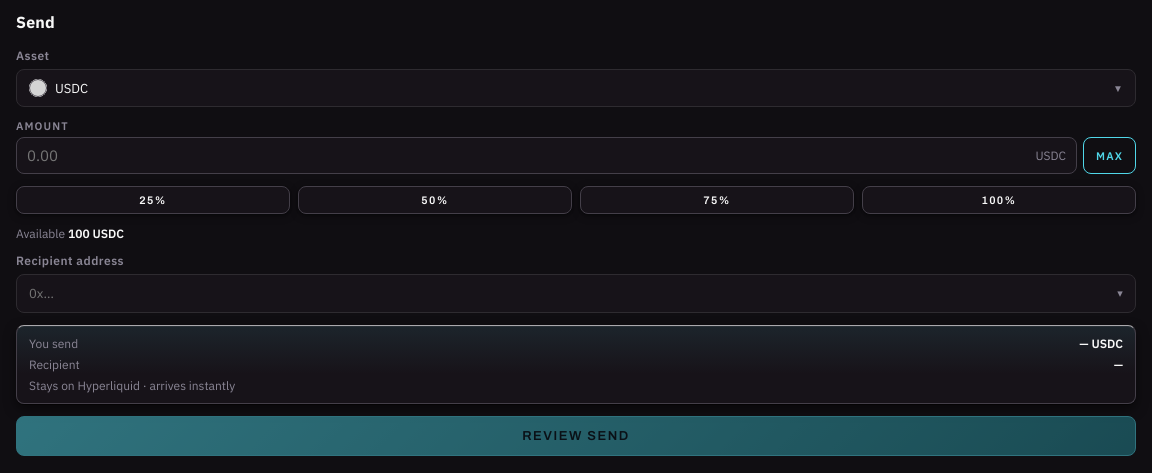
Test: SendFlow body — recipient combobox › opens grouped recipient suggestions on focus
Click the dropdown labelled "Recipient address" at (576, 294), box [16,274,1136,313]
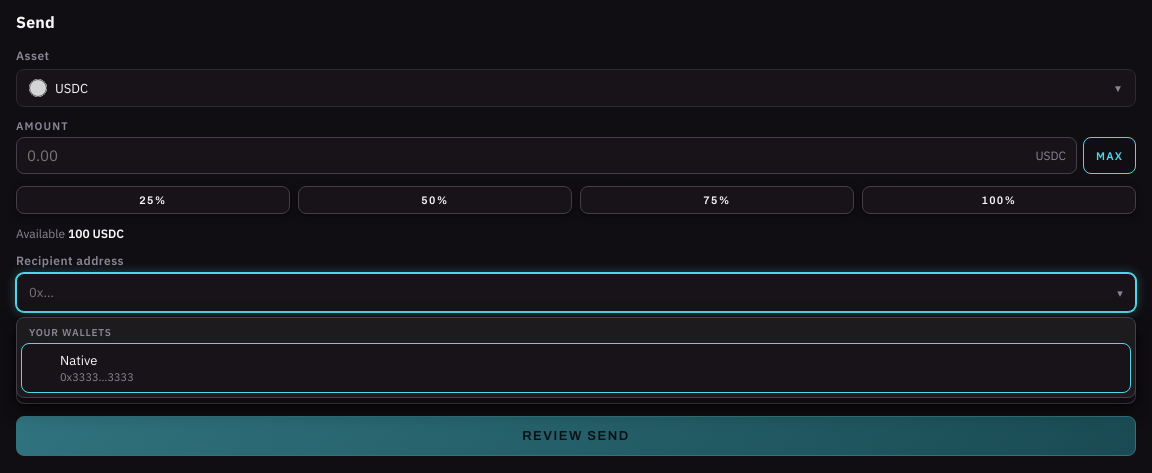
Expected: the list named "Recipient suggestions" is shown, [16,317,1136,398]
Expected: the text "Your wallets" is shown, [29,326,112,339]
Expected: the option "Native 0x3333…3333" is shown, [21,343,1131,393]
